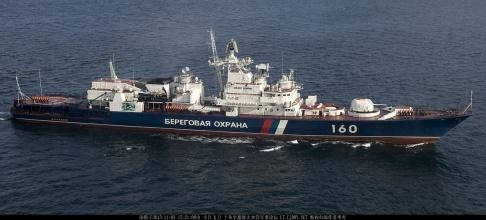warship: (8, 38, 470, 146)
